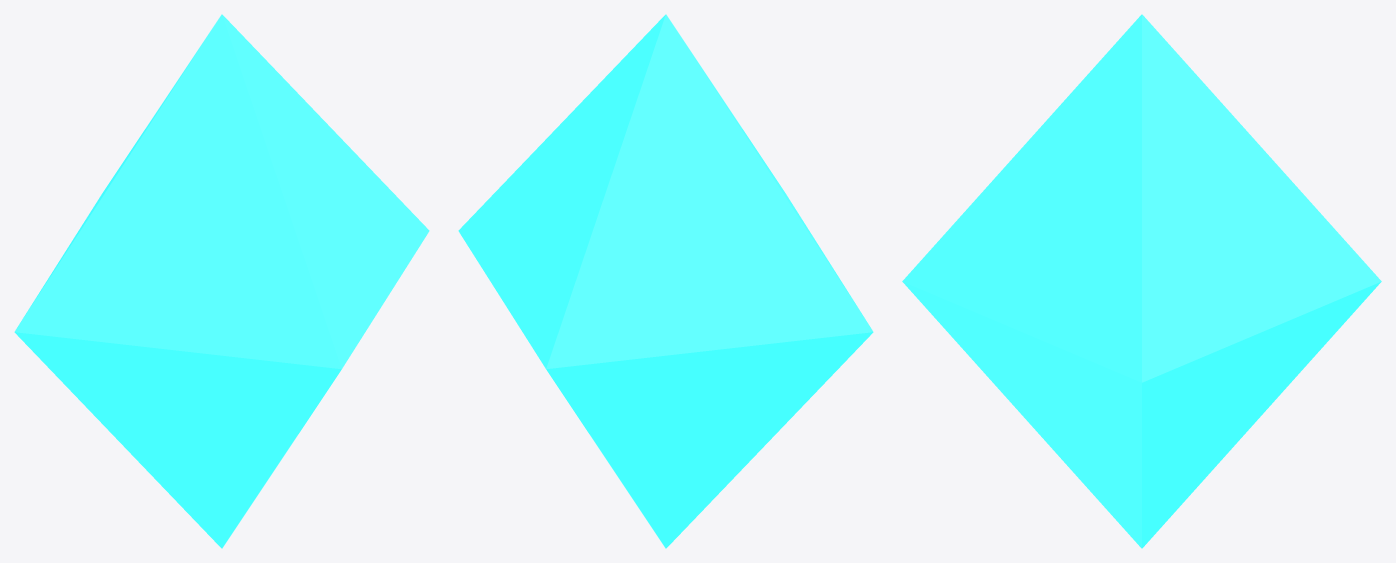
File: tier-t3.glb
3 renders of one model, left to right at view 1: azimuth 30°, elevation 25°; view 2: azimuth 150°, elevation 25°; view 3: azimuth 270°, elevation 25°, orthographic.
Visible parts, largest first — view 1: gem-t3-void-forged-top, gem-t3-void-forged-bottom; view 2: gem-t3-void-forged-top, gem-t3-void-forged-bottom; view 3: gem-t3-void-forged-top, gem-t3-void-forged-bottom.
Part boxes in pixels (x1,y1,x2,y2): gem-t3-void-forged-top: [14, 14, 429, 369]; gem-t3-void-forged-bottom: [15, 332, 341, 548]; gem-t3-void-forged-top: [458, 14, 873, 369]; gem-t3-void-forged-bottom: [546, 332, 872, 548]; gem-t3-void-forged-top: [902, 14, 1381, 382]; gem-t3-void-forged-bottom: [902, 281, 1381, 548].
Bounding box in the file's own units: 0.26 × 0.32 × 0.26.
